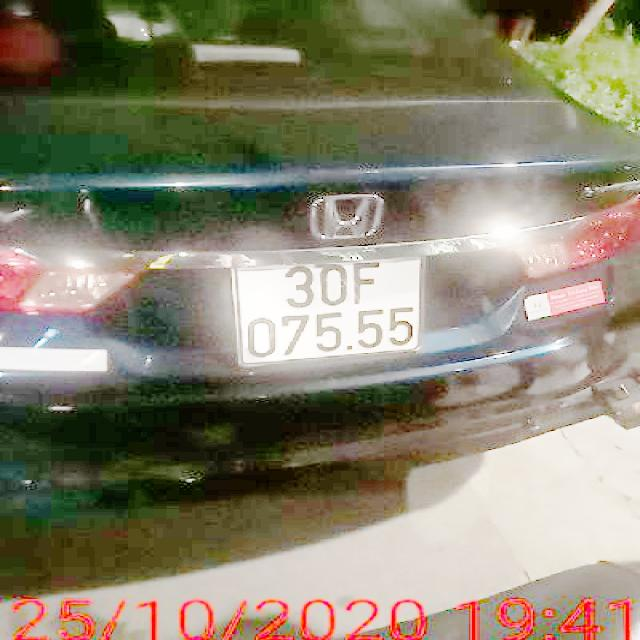license_plate: (235, 257, 421, 365)
